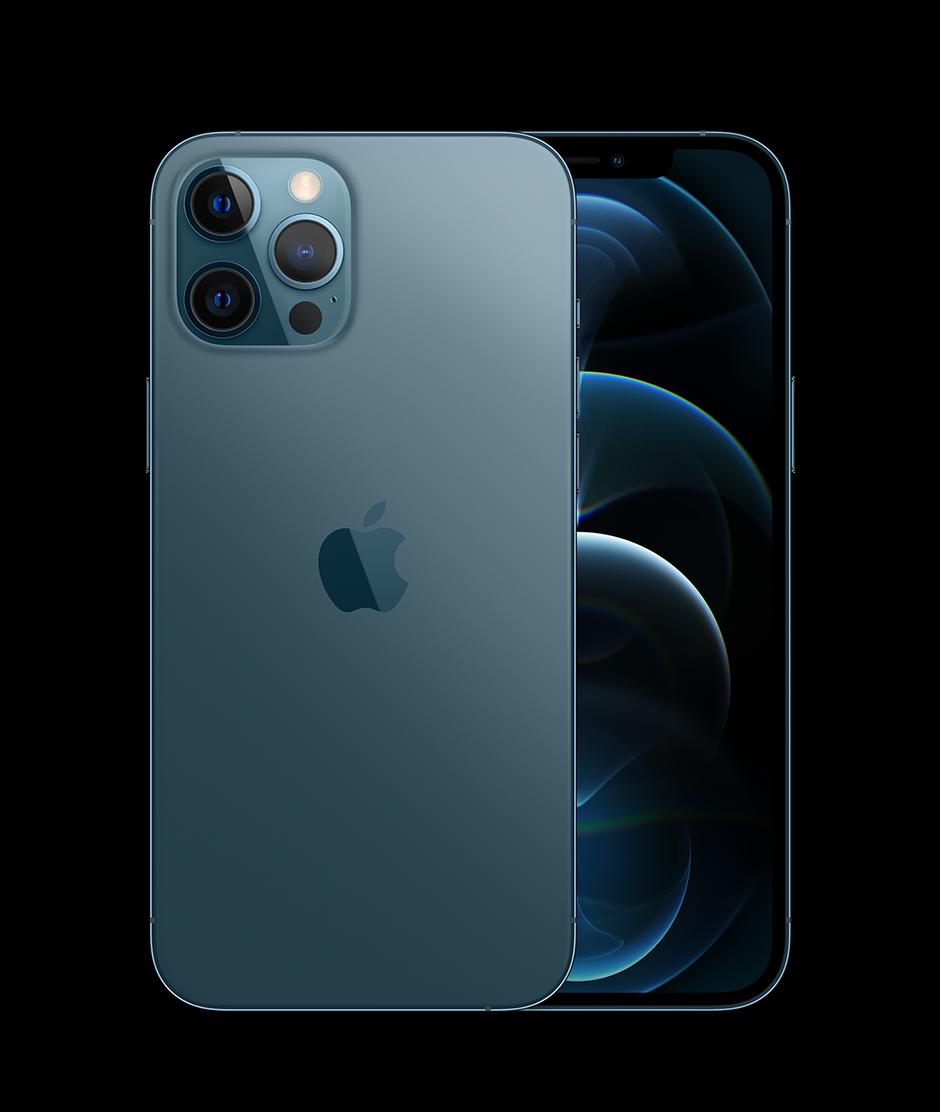-iphone12: (136, 123, 811, 1017)
